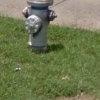Hydrant: (14, 1, 57, 55)
